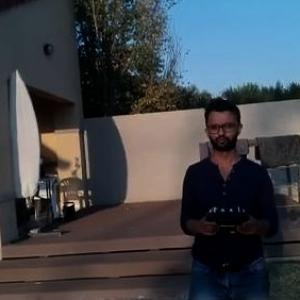follow: (173, 94, 281, 299)
